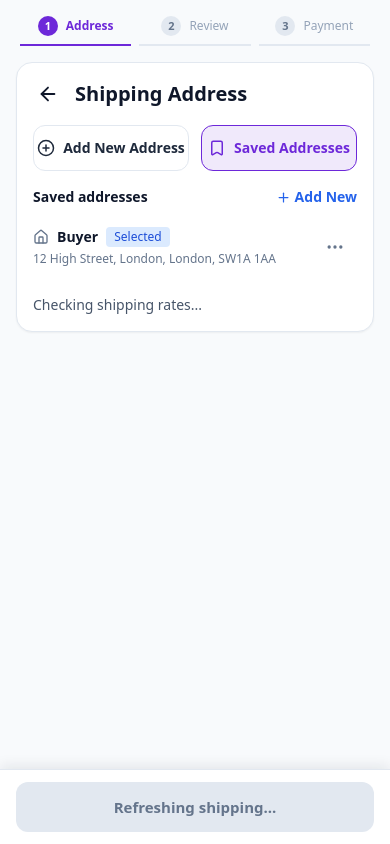
Test: checkout shipping addresses › opens the new address form on request and keeps a draft when returning to saved addresses
Click the button "Add New" at (316, 197), box x1=276 y1=187 x2=357 y2=207
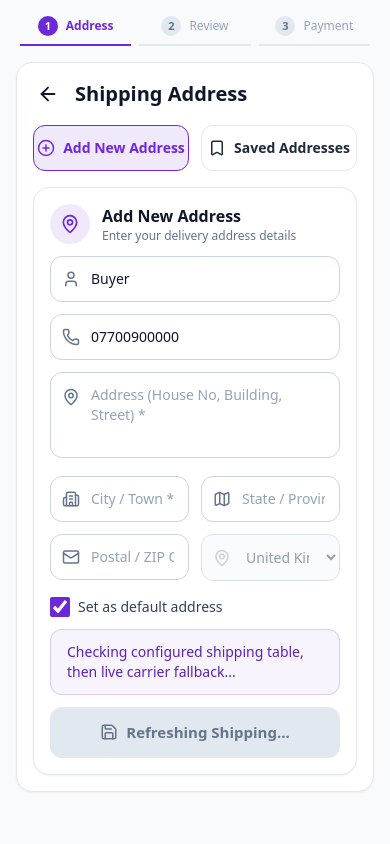
Type "New Road" into the text box named "street address" at (195, 415), box x1=50 y1=372 x2=340 y2=458
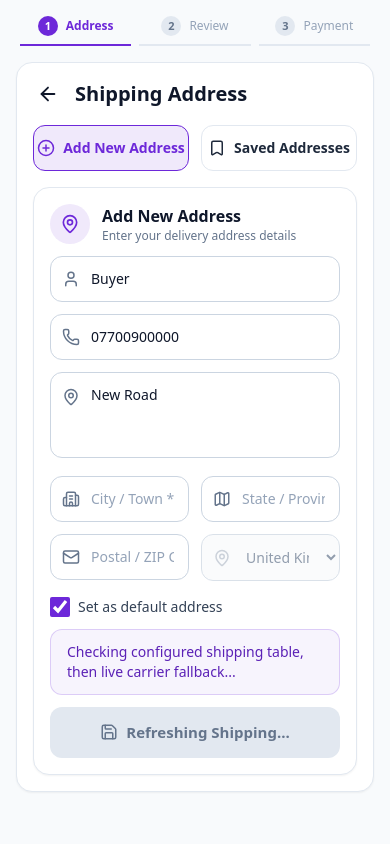
Click the tab "Saved Addresses" at (279, 148), box x1=201 y1=125 x2=357 y2=171
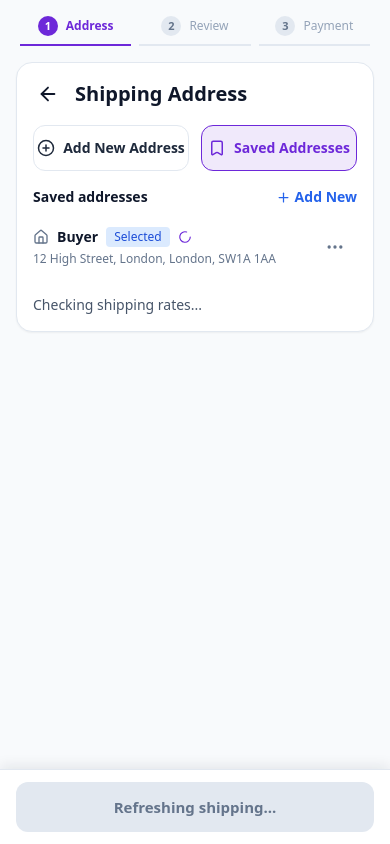
Expected: the text "12 High Street, London, London, SW1A 1AA" is shown, x1=33 y1=251 x2=313 y2=267
Click the button "Add New" at (316, 197), box x1=276 y1=187 x2=357 y2=207
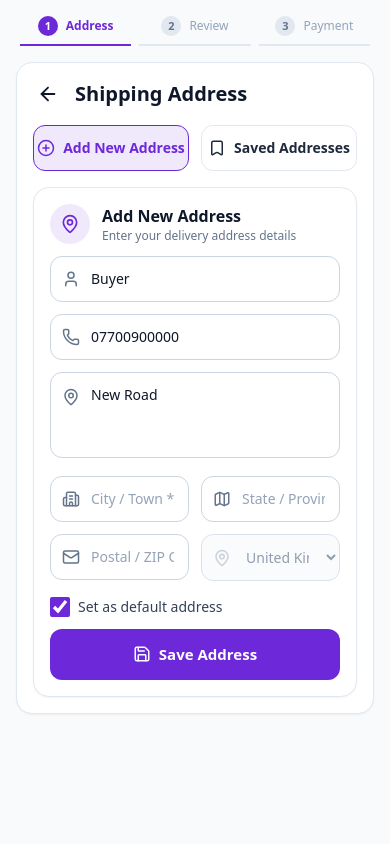
Expected: the text box named "street address" holds "New Road", x1=50 y1=372 x2=340 y2=458
